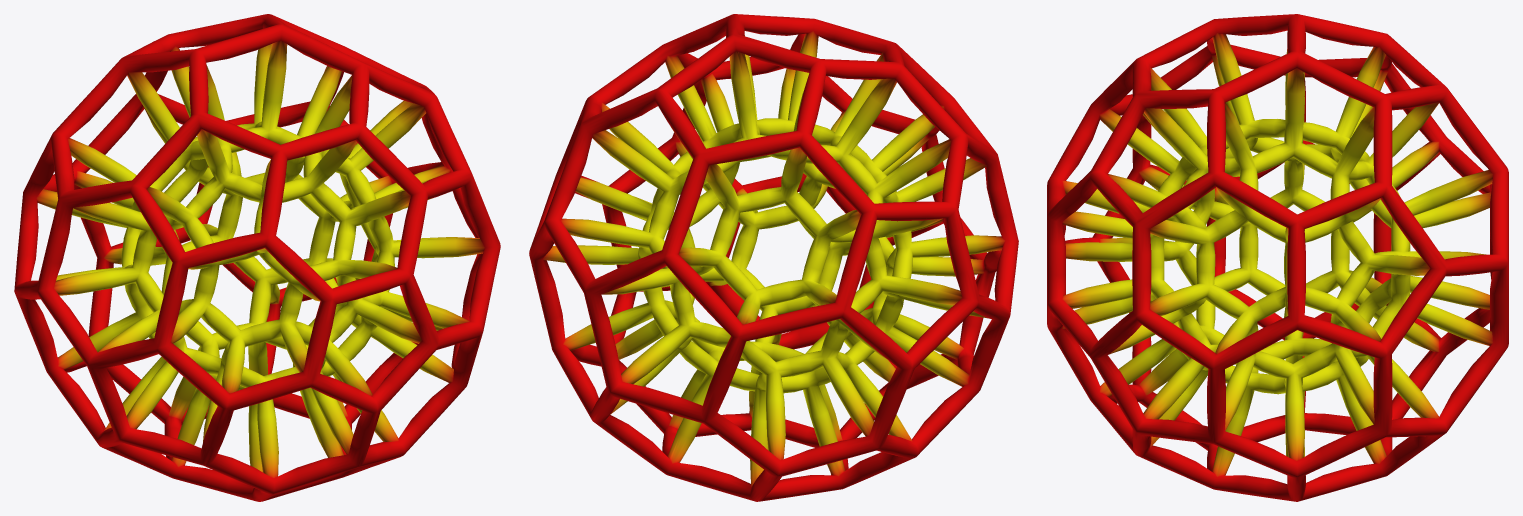
The model's file is soccerBall_v1.glb.
3 renders of one model, left to right at view 1: azimuth 30°, elevation 25°; view 2: azimuth 150°, elevation 25°; view 3: azimuth 270°, elevation 25°, orthographic.
Visible parts, largest first — view 1: geo1; view 2: geo1; view 3: geo1.
Boxes of the visible parts, x1,y1,x2,y2 form: geo1: (14, 14, 500, 501); geo1: (529, 14, 1018, 501); geo1: (1047, 14, 1508, 501).
Bounding box in the file's own units: 2.78 × 2.72 × 2.63.
